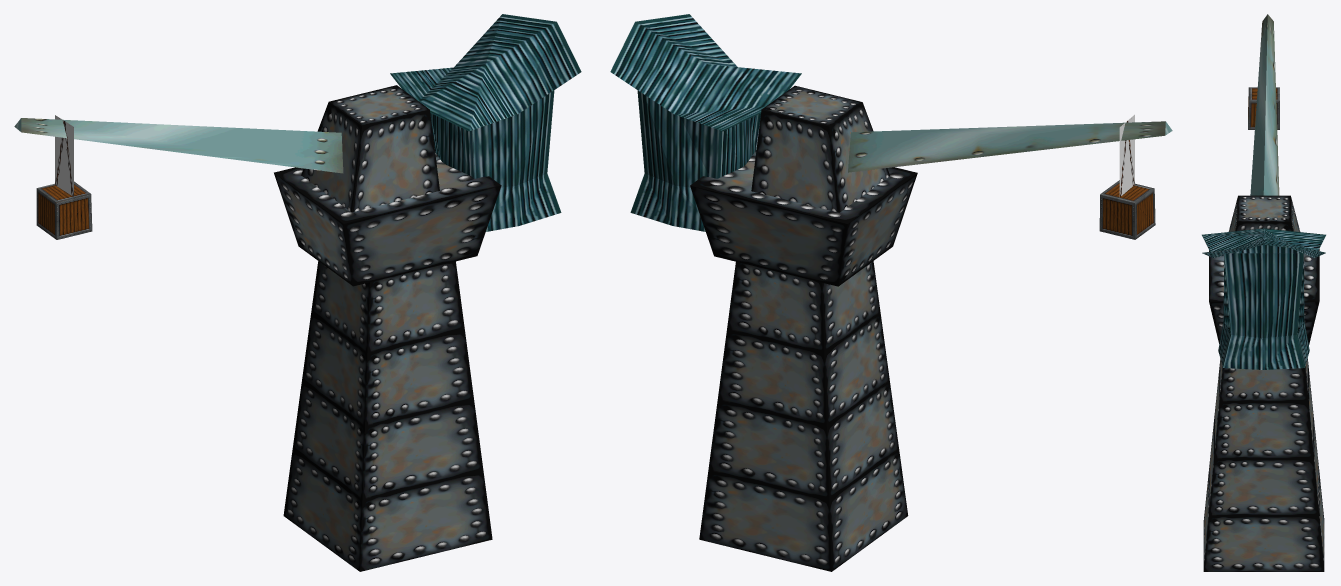
Rendered from Kran_758.glb.
3 views of the same model, side by side, from view 1: azimuth 30°, elevation 25°; view 2: azimuth 150°, elevation 25°; view 3: azimuth 270°, elevation 25° (orthographic). The views are drawn at different scales.
Visible parts, largest first — view 1: pPlaneShape5, pPlaneShape7, pPlaneShape22, pPlaneShape9, pCylinderShape27, pPlaneShape18, pPlaneShape24, pPlaneShape11, pPlaneShape12, pPlaneShape26, pPlaneShape27, pPlaneShape21 (+3 smaller); view 2: pPlaneShape4, pPlaneShape7, pPlaneShape22, pPlaneShape8, pCylinderShape27, pPlaneShape19, pPlaneShape23, pPlaneShape11, pPlaneShape12, pPlaneShape26, pPlaneShape27, pPlaneShape21 (+3 smaller); view 3: pPlaneShape6, pPlaneShape20, pCylinderShape27, pPlaneShape22, pPlaneShape27, pPlaneShape12, pPlaneShape5, pPlaneShape4, pPlaneShape10, pPlaneShape18, pPlaneShape19, pPlaneShape25 (+3 smaller).
Boxes of the visible parts, x1,y1,x2,y2 form: pPlaneShape5: [360, 261, 492, 571]; pPlaneShape7: [283, 261, 369, 571]; pPlaneShape22: [390, 14, 581, 131]; pPlaneShape9: [344, 185, 501, 286]; pCylinderShape27: [14, 118, 343, 173]; pPlaneShape18: [472, 90, 561, 231]; pPlaneShape24: [352, 109, 439, 212]; pPlaneShape11: [274, 173, 352, 285]; pPlaneShape12: [274, 153, 501, 223]; pPlaneShape26: [301, 102, 361, 211]; pPlaneShape27: [329, 85, 429, 125]; pPlaneShape21: [422, 80, 474, 178]; pPlaneShape4: [699, 261, 831, 571]; pPlaneShape7: [822, 261, 908, 571]; pPlaneShape22: [610, 14, 801, 131]; pPlaneShape8: [690, 185, 847, 286]; pCylinderShape27: [848, 121, 1172, 172]; pPlaneShape19: [630, 90, 719, 231]; pPlaneShape23: [751, 110, 839, 212]; pPlaneShape11: [838, 173, 917, 286]; pPlaneShape12: [690, 150, 917, 223]; pPlaneShape26: [829, 102, 889, 212]; pPlaneShape27: [761, 85, 862, 126]; pPlaneShape21: [717, 110, 760, 178]; pPlaneShape6: [1203, 367, 1324, 571]; pPlaneShape20: [1223, 253, 1304, 369]; pCylinderShape27: [1250, 14, 1279, 195]; pPlaneShape22: [1202, 228, 1325, 257]; pPlaneShape27: [1238, 195, 1290, 221]; pPlaneShape12: [1209, 249, 1319, 301]; pPlaneShape5: [1203, 359, 1222, 570]; pPlaneShape4: [1305, 359, 1324, 568]; pPlaneShape10: [1209, 301, 1319, 345]; pPlaneShape18: [1218, 256, 1230, 366]; pPlaneShape19: [1297, 256, 1309, 366]; pPlaneShape25: [1236, 221, 1304, 281].
Size of the model in its own units: 2.08 by 1.84 by 0.5319.
26 materials, 26 textured.
